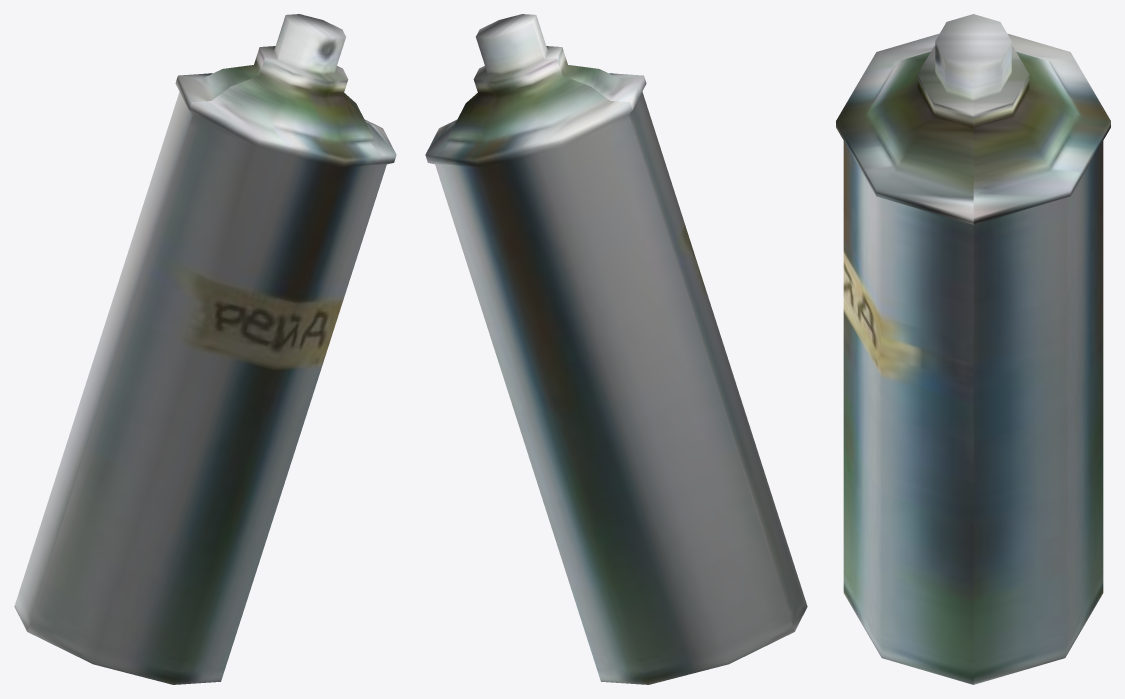
Rendered from raid.FBX.
3 views of the same model, side by side, from view 1: azimuth 30°, elevation 25°; view 2: azimuth 150°, elevation 25°; view 3: azimuth 270°, elevation 25° (orthographic). The views are drawn at different scales.
Parts seen in each view (by area): view 1: raid; view 2: raid; view 3: raid.
Part boxes in pixels (<box>): raid: <box>14,14,396,684</box>; raid: <box>425,14,807,684</box>; raid: <box>836,14,1110,684</box>.
Size of the model in its own units: 23.79 by 39.26 by 13.63.
